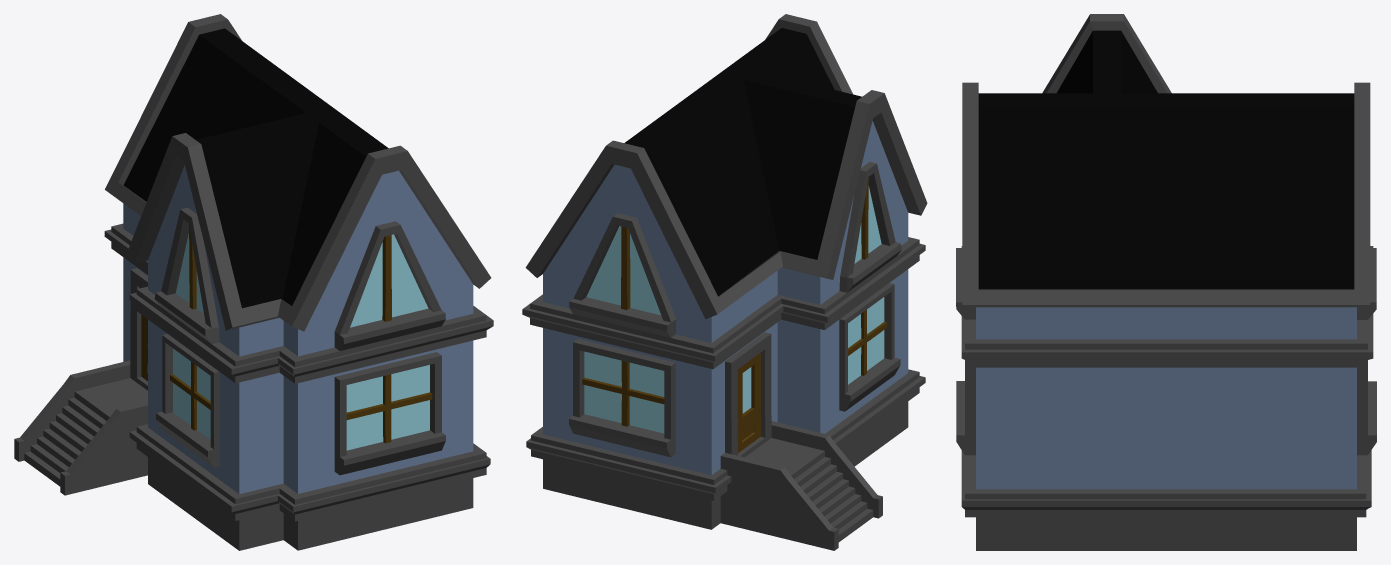
The model's file is SmallHouse.fbx.
3 renders of one model, left to right at view 1: azimuth 30°, elevation 25°; view 2: azimuth 150°, elevation 25°; view 3: azimuth 270°, elevation 25°, orthographic. The views are drawn at different scales.
Parts seen in each view (by area): view 1: Cube.011; view 2: Cube.011; view 3: Cube.011.
Boxes of the visible parts, box(x1,y1,x2,y2) form: Cube.011: box(14, 14, 493, 550); Cube.011: box(522, 14, 927, 550); Cube.011: box(956, 14, 1376, 550).
Size of the model in its own units: 664 by 782 by 722.
